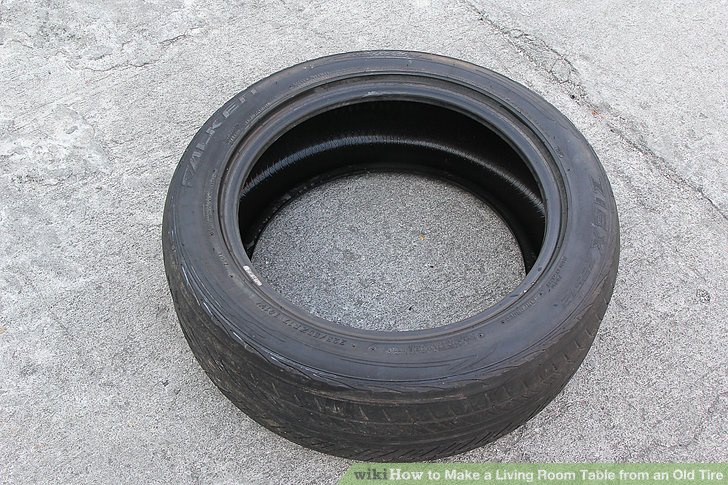tire: (160, 46, 627, 470)
